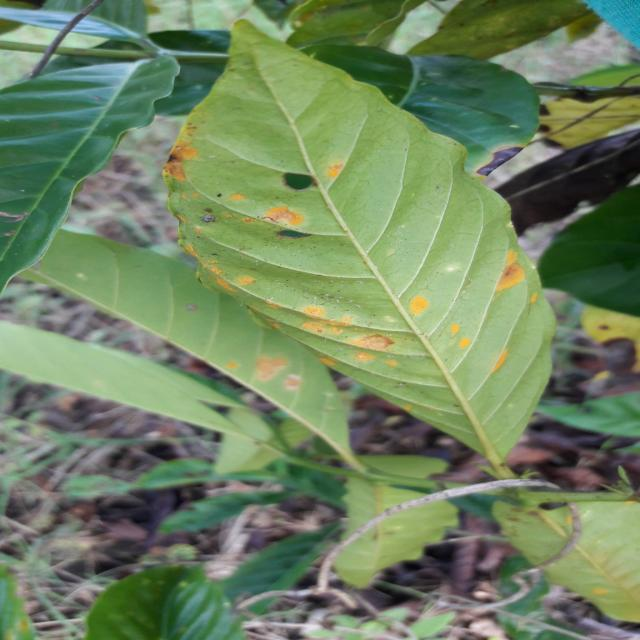Enfermedad-Roya: (157, 25, 557, 477)
